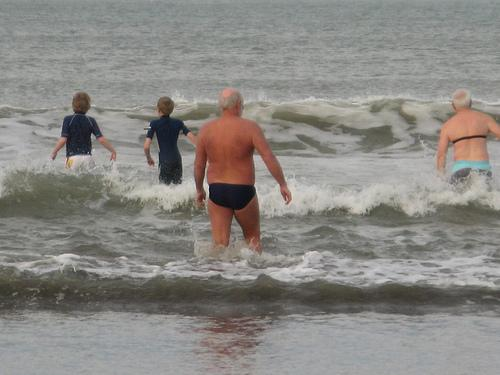human: (193, 86, 292, 254), (436, 86, 500, 192), (52, 90, 117, 168), (143, 95, 197, 186)
